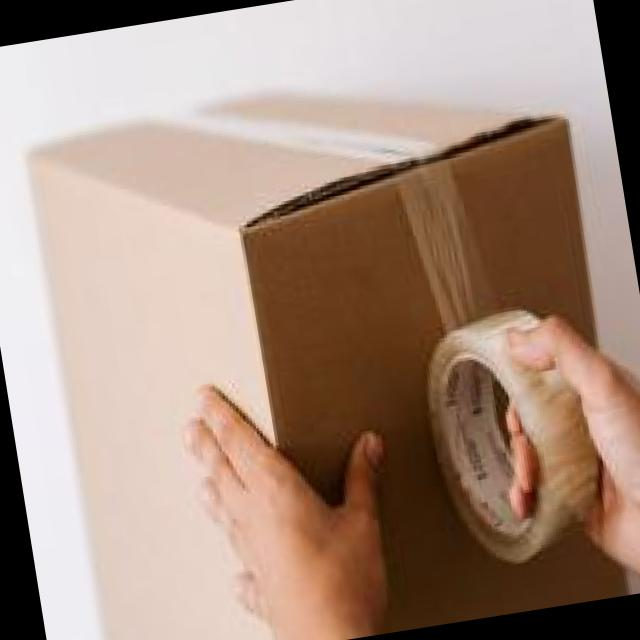box: (23, 85, 634, 639)
